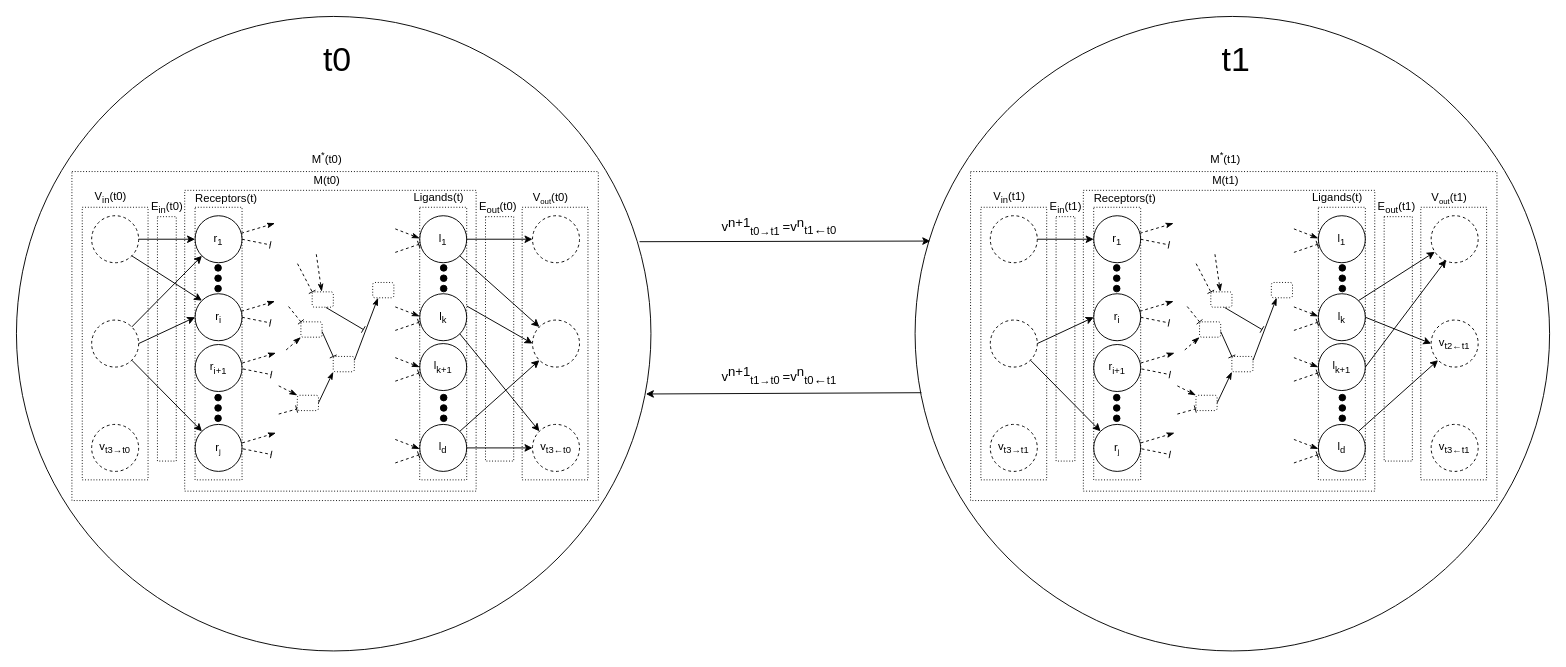
This 1566x667 diagram has some shape labels left out. The centre of each missing label's shape, as x and y in pixels:
v t0 ←t1: point (1454, 239)
v t0 →t1: point (1013, 239)
v t1 ←t0: point (556, 239)
v t1 →t0: point (115, 239)
v t2 ←t0: point (556, 343)
v t2 →t0: point (115, 343)
v t2 →t1: point (1013, 343)
